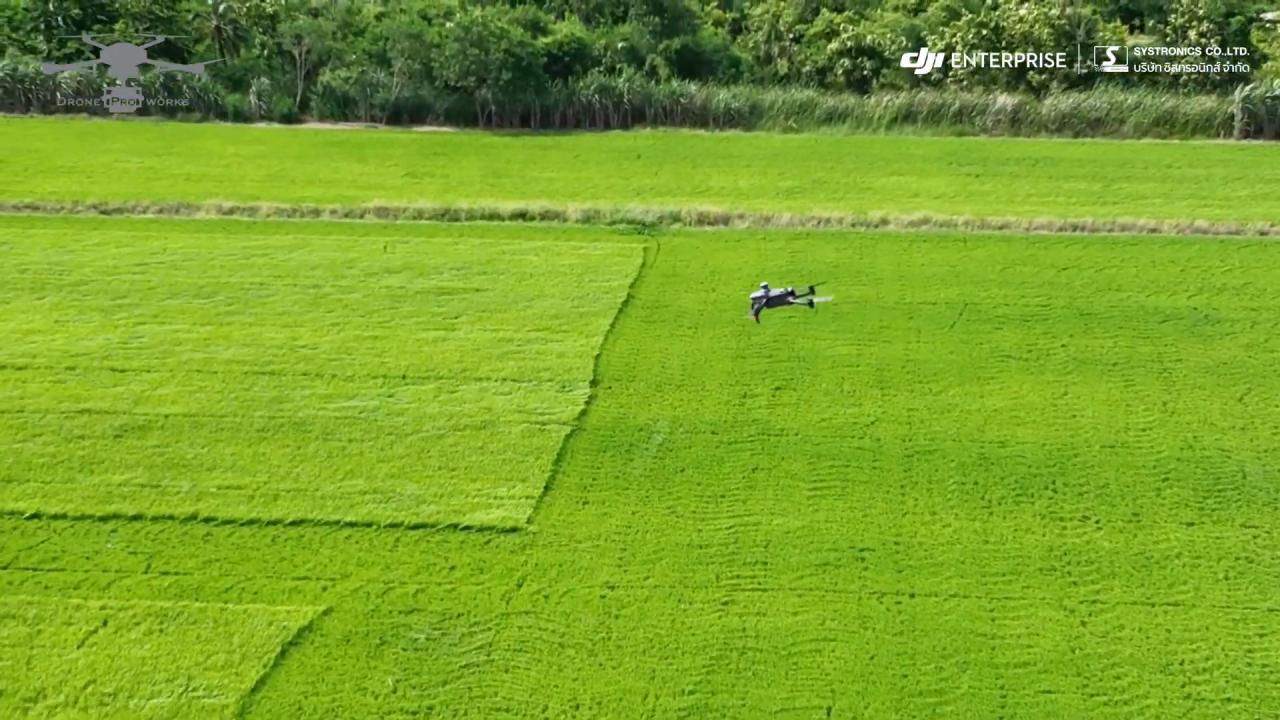Drone: (734, 271, 846, 328)
